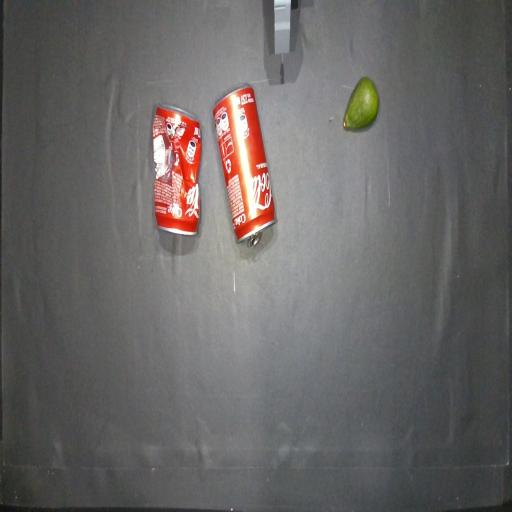higo: (343, 77, 378, 130)
lata: (213, 84, 276, 246)
lata_defectuoso: (153, 105, 202, 234)
